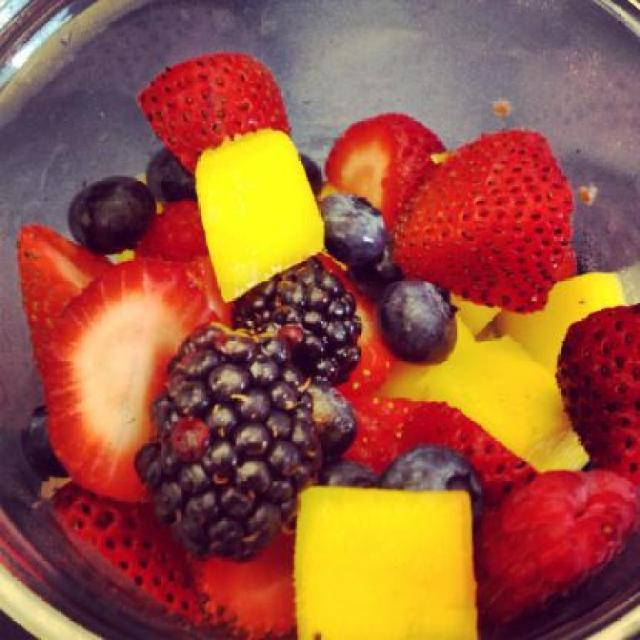Strawberry: (38, 254, 220, 506), (386, 126, 588, 320), (43, 475, 208, 623), (132, 52, 294, 176), (558, 297, 640, 506), (321, 112, 448, 240), (399, 396, 541, 504), (18, 222, 114, 360), (187, 526, 301, 640), (318, 250, 397, 404), (342, 394, 415, 478)
